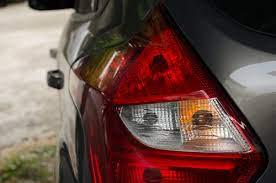Signlight-Damage: (111, 93, 259, 159)
